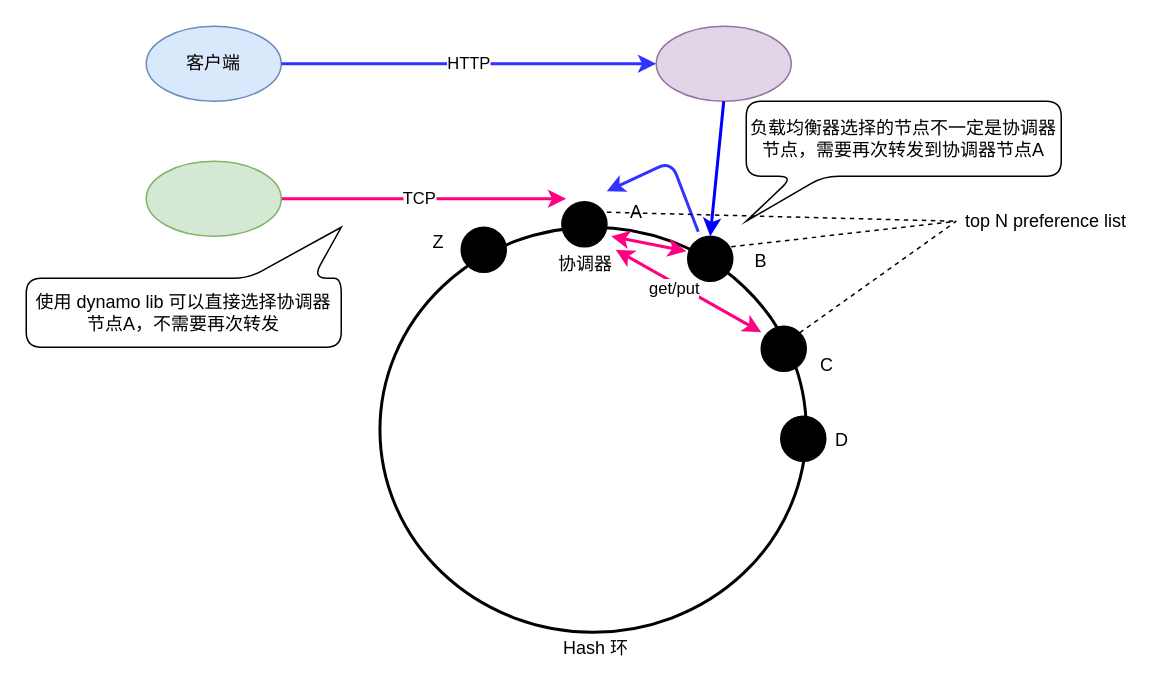
Image size: 1163x690. Some labels were removed from this diagram. Here are the shapes that lost their labels. From the top down, the centre of each, then its label:
point (723, 63): 负载均衡
point (213, 198): 基于dynamo Lib的客户端
